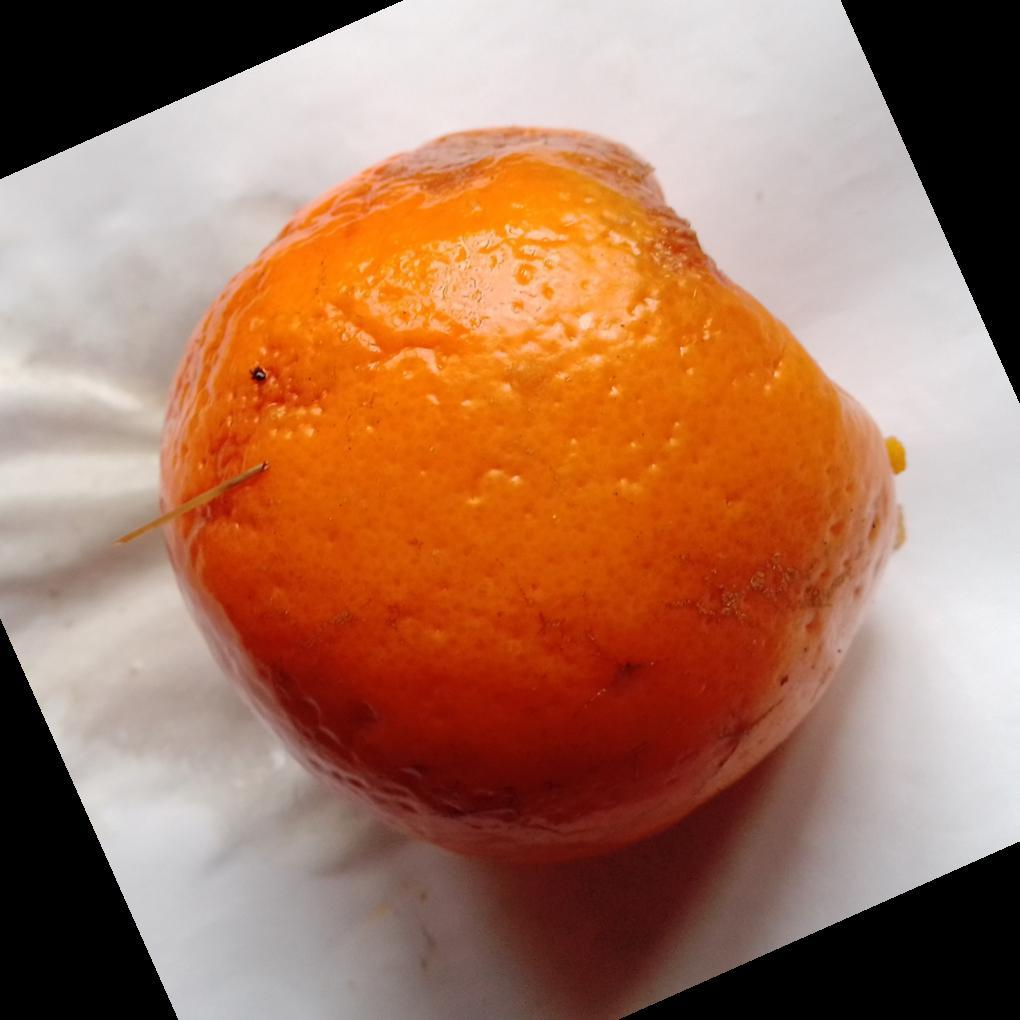FreshOrange: (144, 127, 908, 872)
